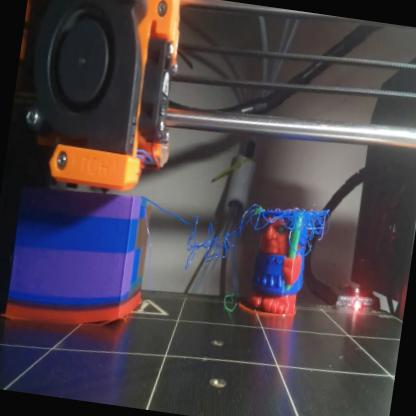fail: (149, 192, 263, 283), (279, 201, 331, 248)
